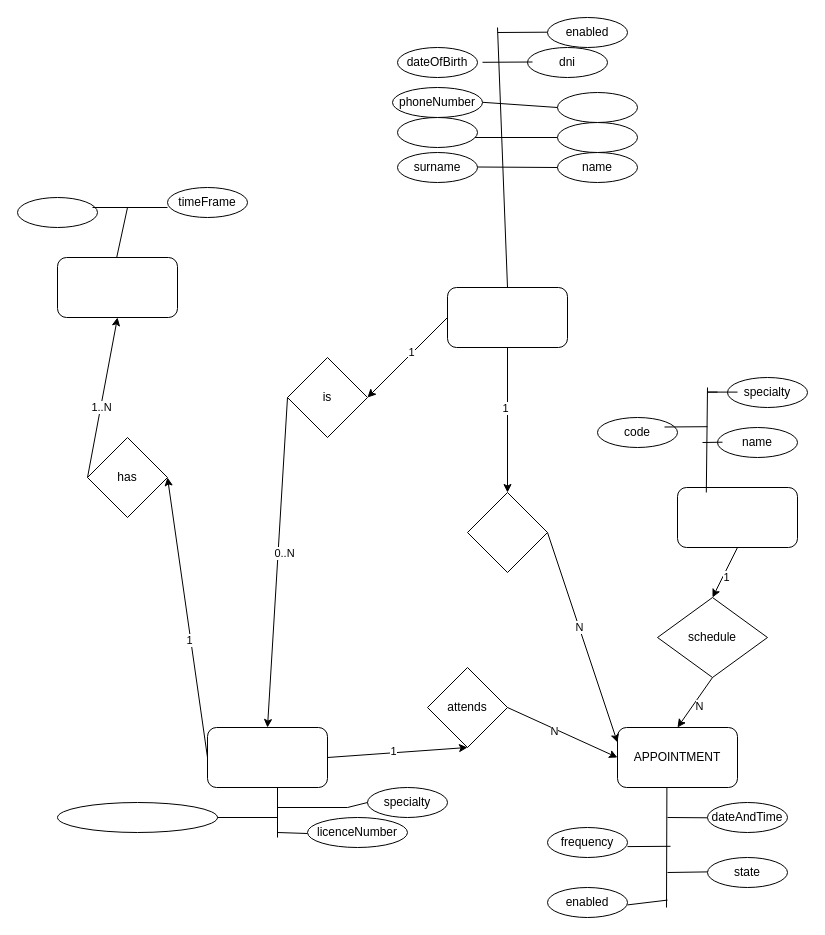
This 825x935 diagram has some shape labels left out. The shapes that lost their labels are listed below. From the top down, each one's centre as x and y in pixels, then its label:
the point at 597,107: role
the point at 437,132: password
the point at 597,137: email
the point at 57,212: days
the point at 117,287: AVAILABILITY
the point at 507,317: USER
the point at 507,532: makes
the point at 737,517: MEDICAL CONSULTATION
the point at 267,757: DOCTOR
the point at 137,817: acceptMedicalEnsurance
